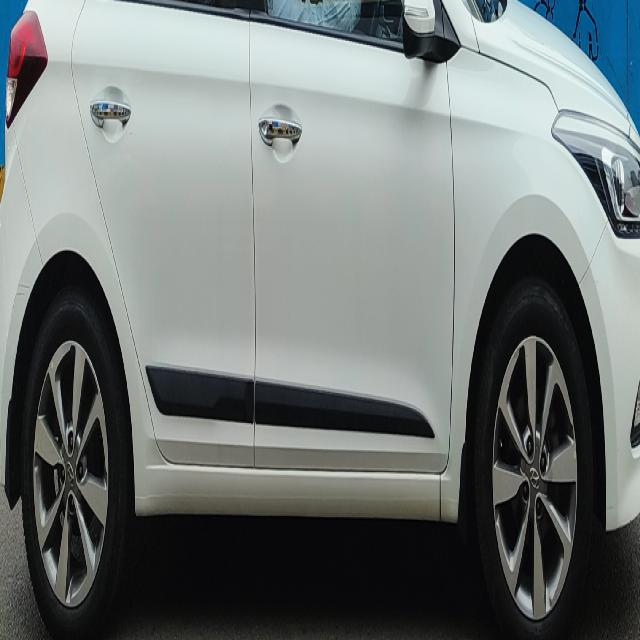scratch: (129, 128, 133, 139)
